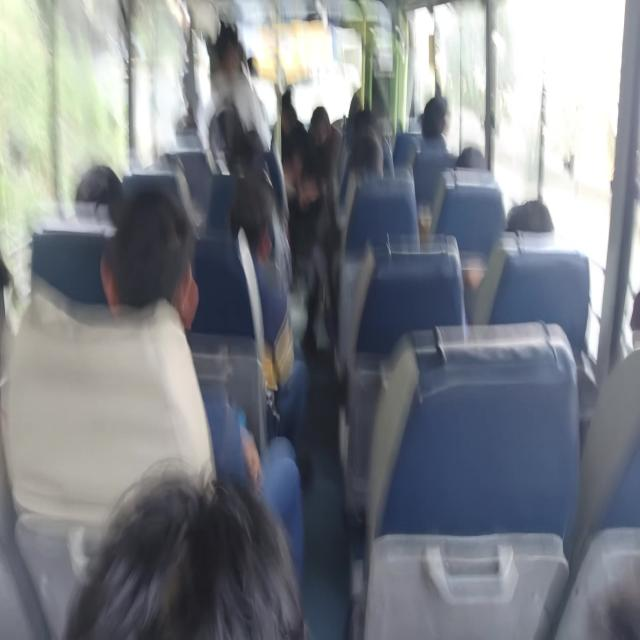person: (96, 463, 281, 640), (109, 217, 224, 397), (229, 191, 299, 275), (0, 242, 37, 338), (502, 198, 543, 269), (79, 160, 119, 228), (347, 142, 392, 202), (448, 141, 492, 191), (154, 140, 189, 193), (216, 22, 247, 74), (265, 84, 296, 132), (418, 83, 447, 129), (304, 100, 332, 144), (235, 152, 268, 185), (625, 276, 640, 345), (246, 107, 268, 148), (360, 107, 383, 136)
